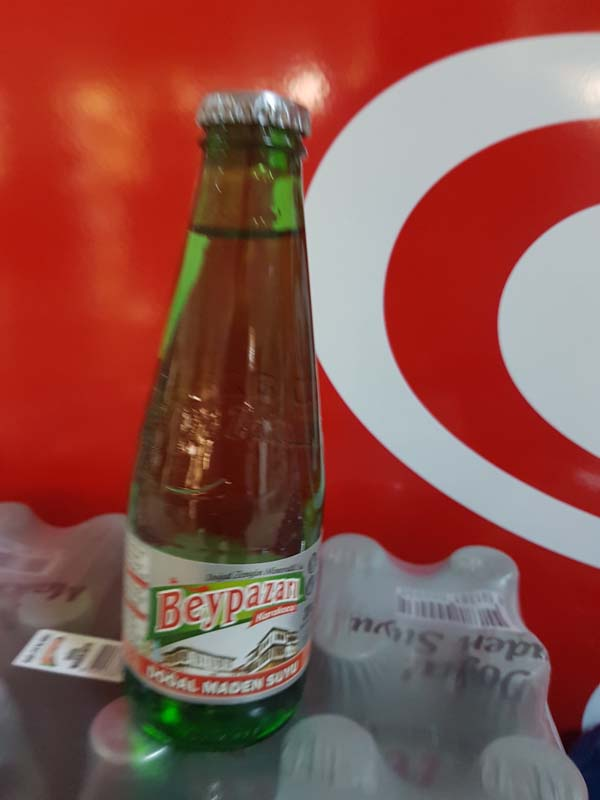beypazarimadensuyu: (119, 80, 321, 752)
